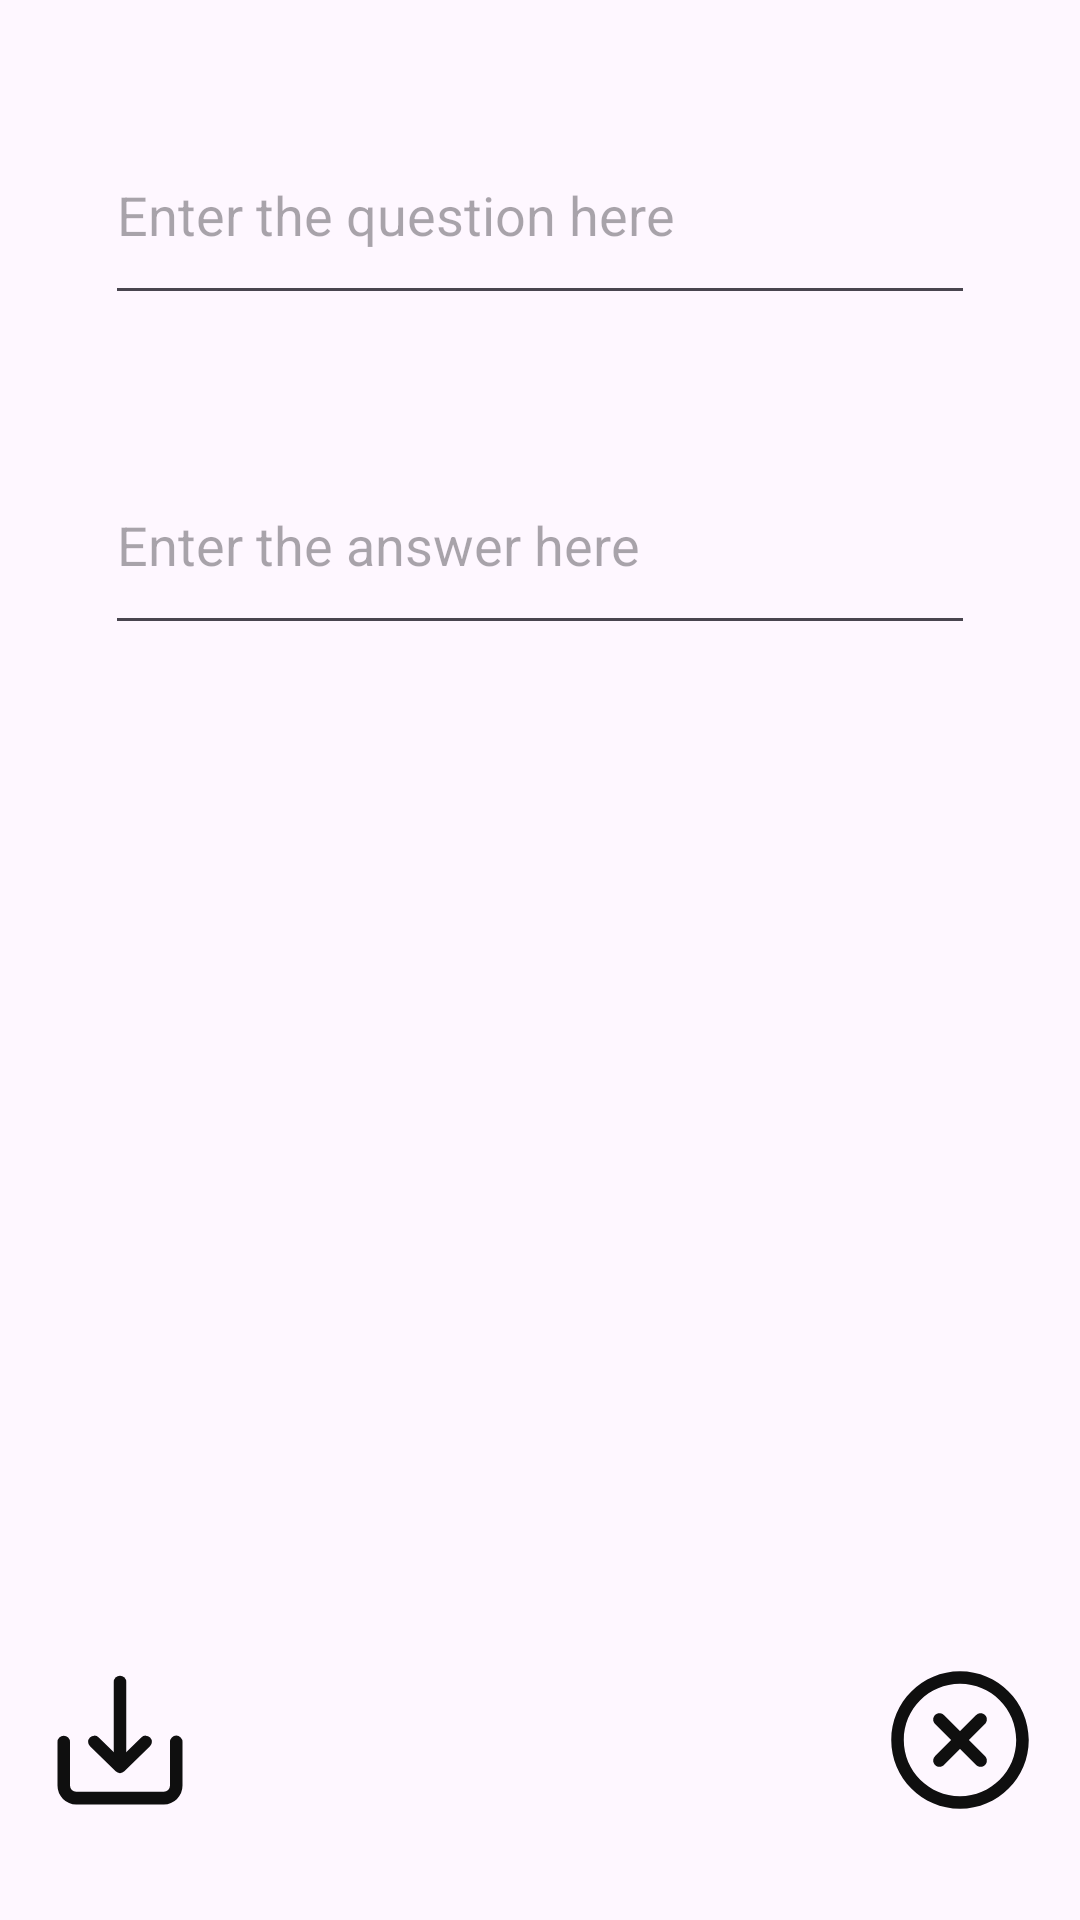

Icons on this 1080w x 1920h Android screen, each with the point to tap as [x,y]:
download: [120,1740]
